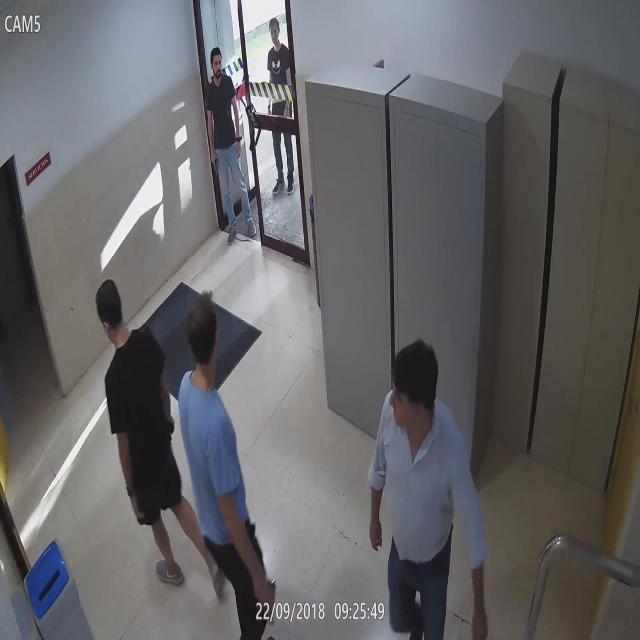weapon: (262, 580, 279, 628), (210, 160, 222, 182)
